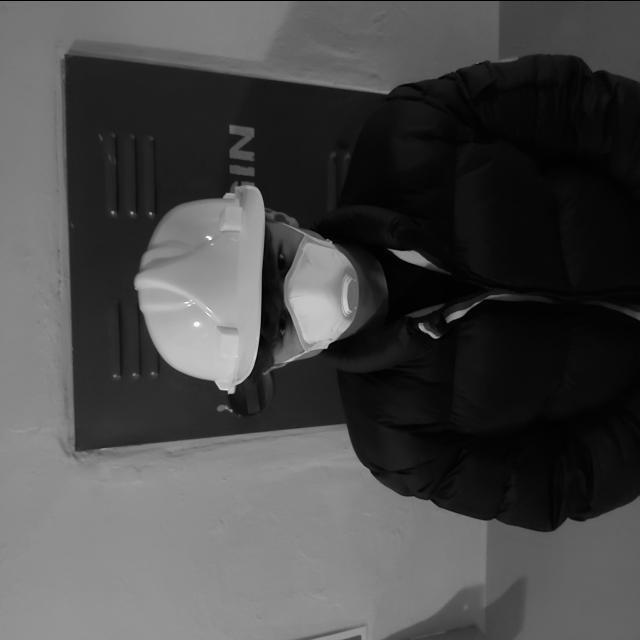safety_helmet: (134, 179, 277, 393)
